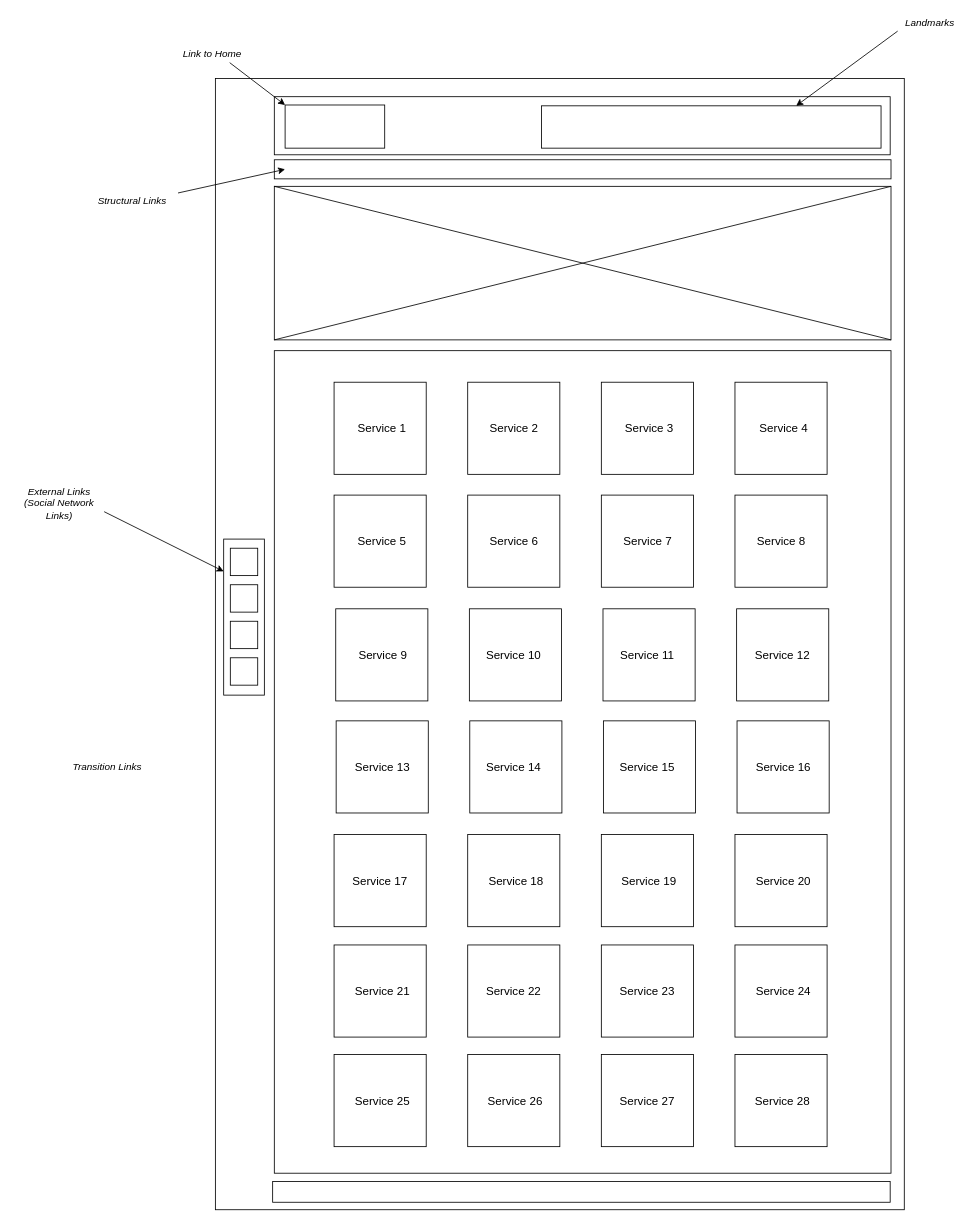
The diagram is 976 pixels wide and 1224 high, and some of its shapes have lost their labels. Each missing label, with the box of its shape:
About Us Services Industries Our Team Contact Us: (541, 105, 881, 148)
ALL SERVICES: (273, 186, 891, 340)
Anchor Links: (273, 159, 891, 179)
Footer: (272, 1181, 890, 1202)
LOGO: (284, 104, 385, 148)
